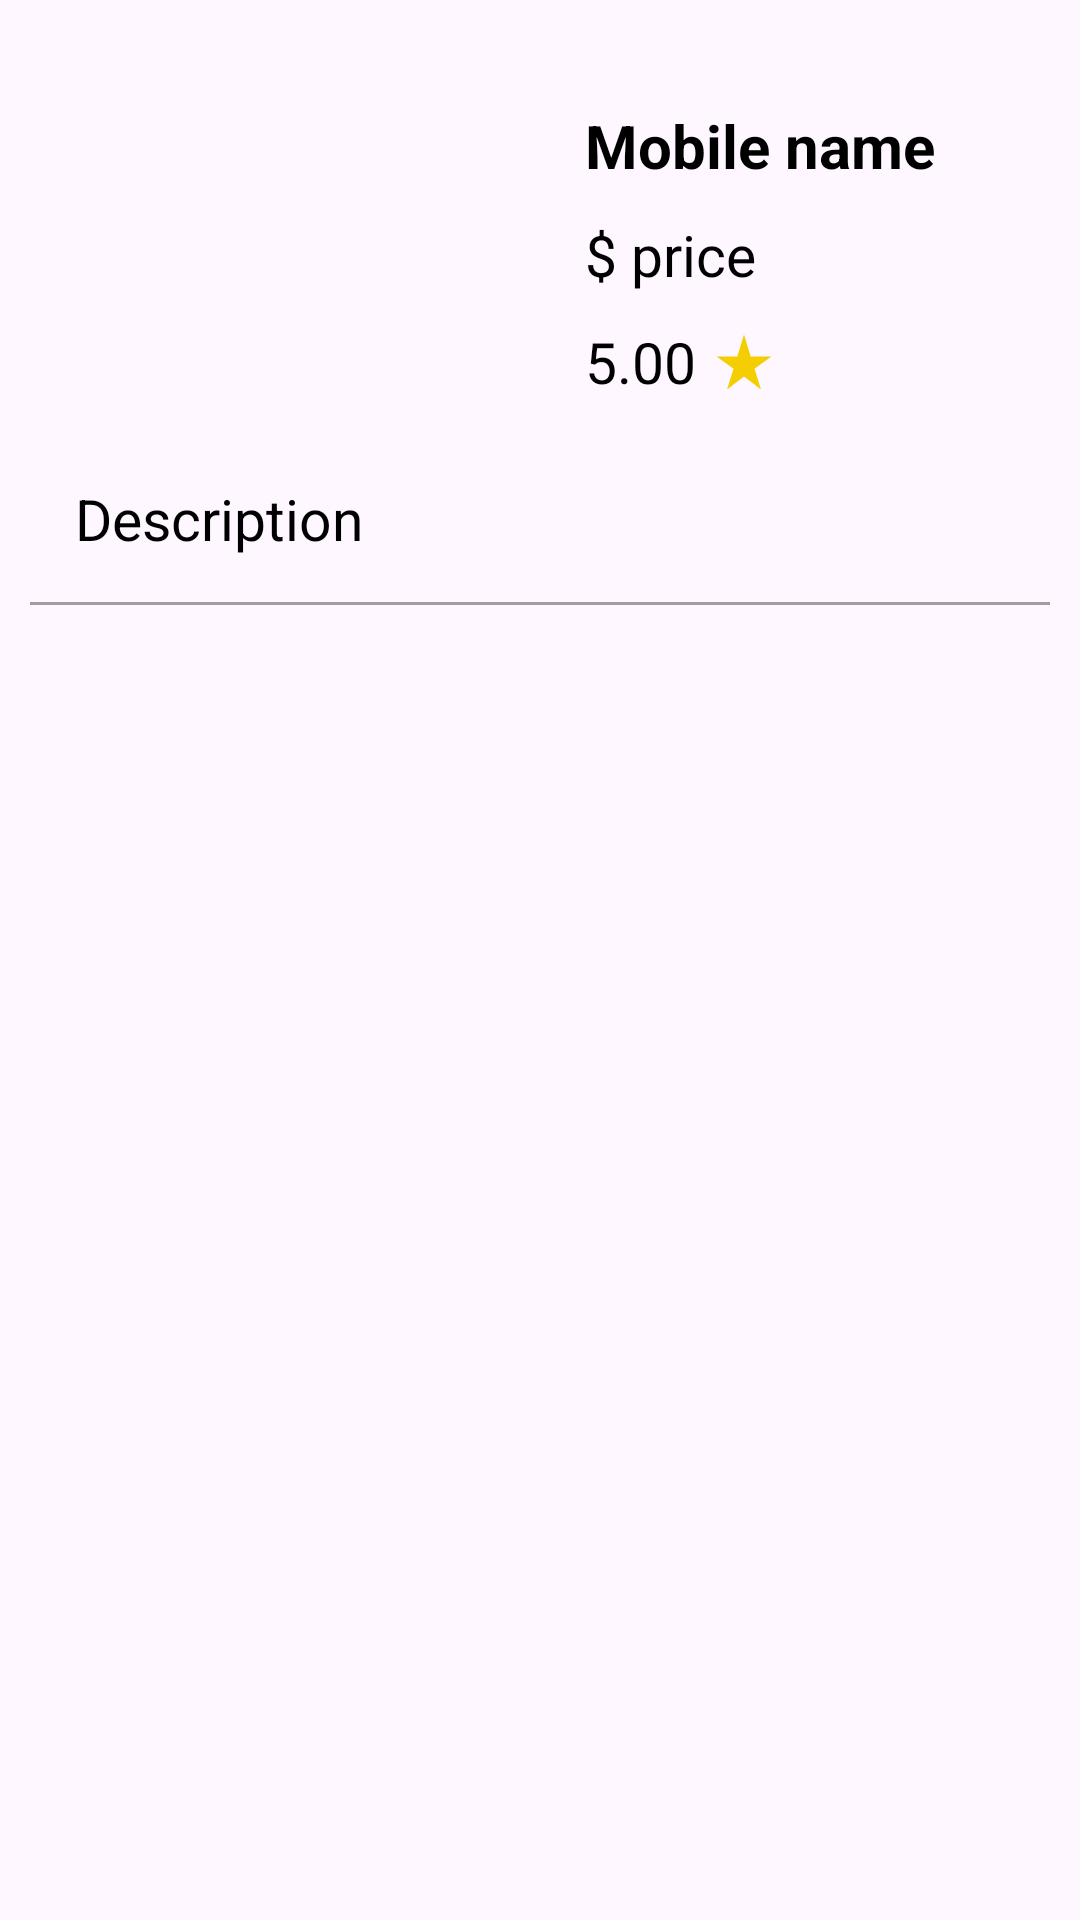

Named icons in this screenshot (1080w x 1920h) and their centers, [x,y]:
star: [744,362]
